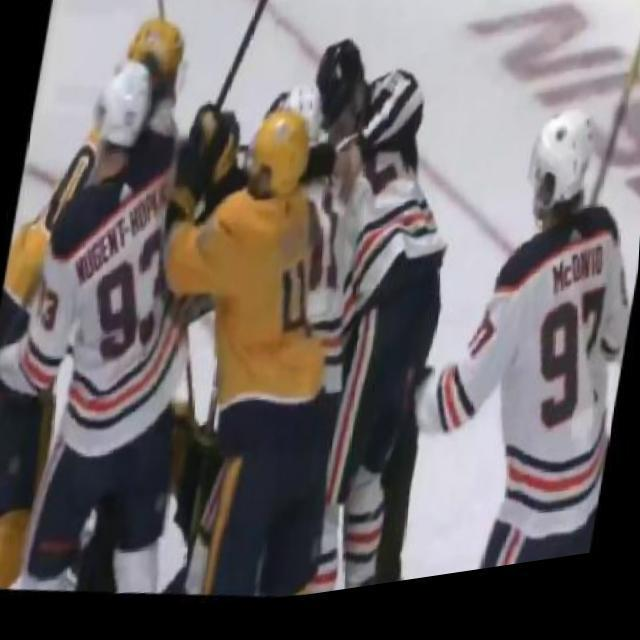fight: (41, 0, 456, 439)
